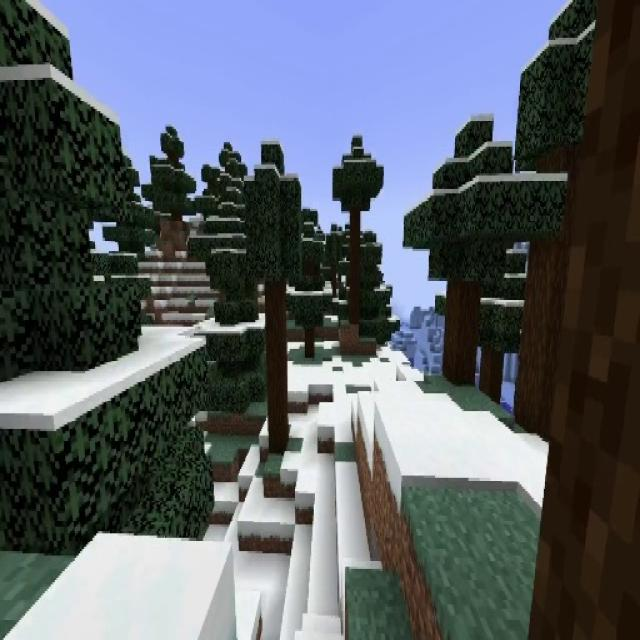spruce: (403, 117, 559, 395), (245, 140, 303, 454), (461, 236, 531, 420), (197, 247, 265, 429), (334, 132, 382, 332), (288, 224, 329, 360), (145, 124, 195, 235)
spruce_log: (522, 238, 559, 432), (266, 279, 289, 451), (445, 282, 478, 384), (481, 349, 503, 401), (350, 209, 360, 323), (306, 330, 314, 358)
